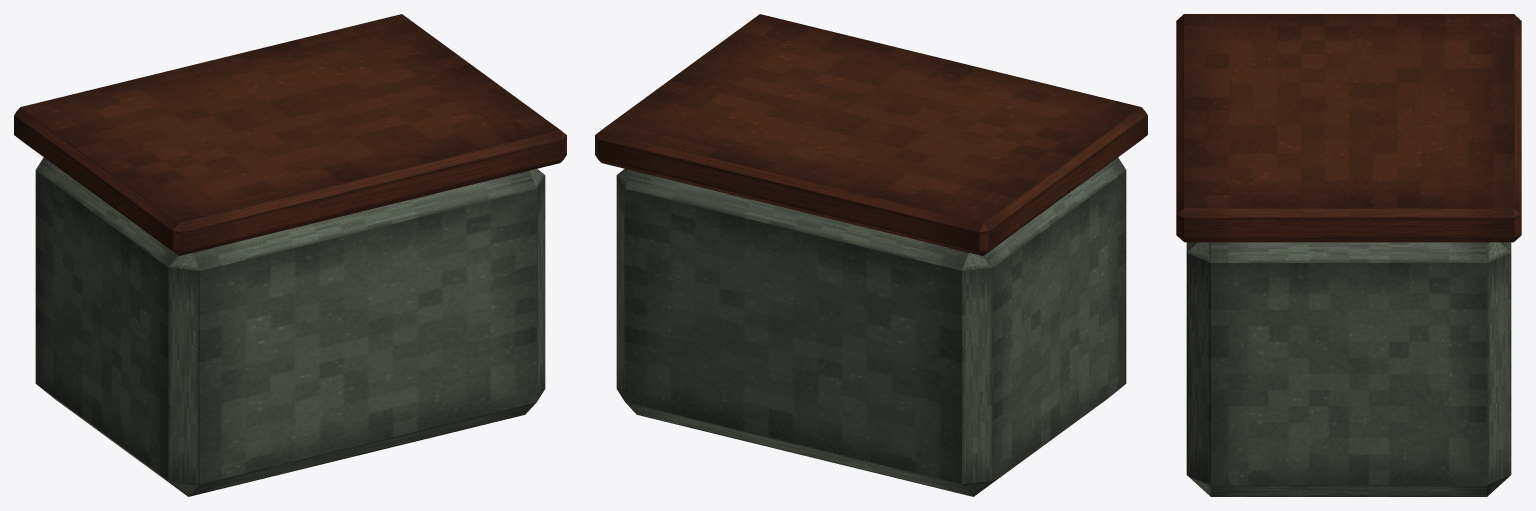
The model's file is THStage_FindSupport_17.fbx.
The picture shows the model from 3 angles, left to right: view 1: azimuth 30°, elevation 25°; view 2: azimuth 150°, elevation 25°; view 3: azimuth 270°, elevation 25°; orthographic projection. The views are drawn at different scales.
Parts seen in each view (by area): view 1: THStage_FindSupport_17.009; view 2: THStage_FindSupport_17.009; view 3: THStage_FindSupport_17.009.
Part boxes in pixels (bbox=[...]): THStage_FindSupport_17.009: bbox=[14, 14, 566, 496]; THStage_FindSupport_17.009: bbox=[595, 14, 1147, 496]; THStage_FindSupport_17.009: bbox=[1176, 14, 1521, 496].
Bounding box in the file's own units: 0.35 × 0.245 × 0.255.
1 material, 1 textured.
